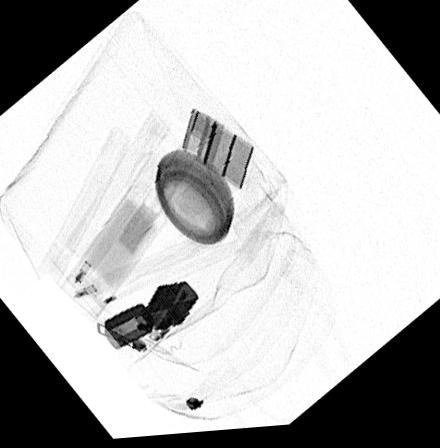Lighter: (102, 283, 198, 353)
